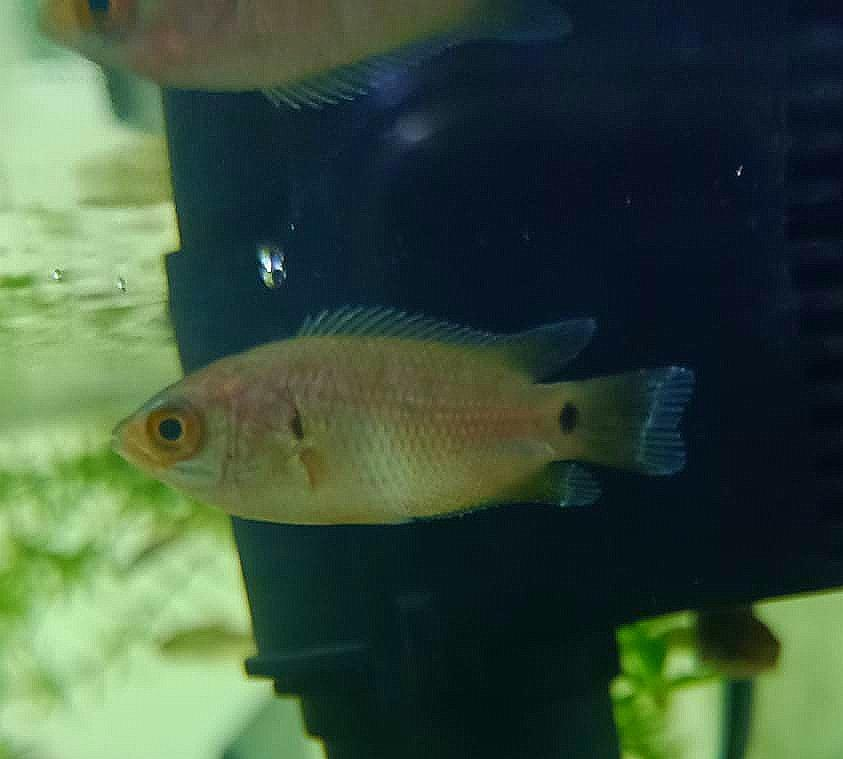Climbing Perch: (111, 302, 692, 530)
